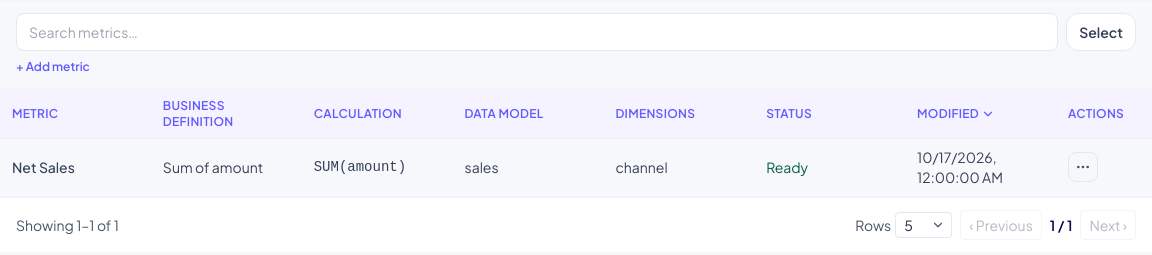
Test: SEM-2A matrix › SEM-2A-031 selection mode
Expected: the text "Net Sales" is shown, [0,138,151,196]
Click the button with aria-label "Select rows" at (1101, 32), box [1066,13,1136,51]
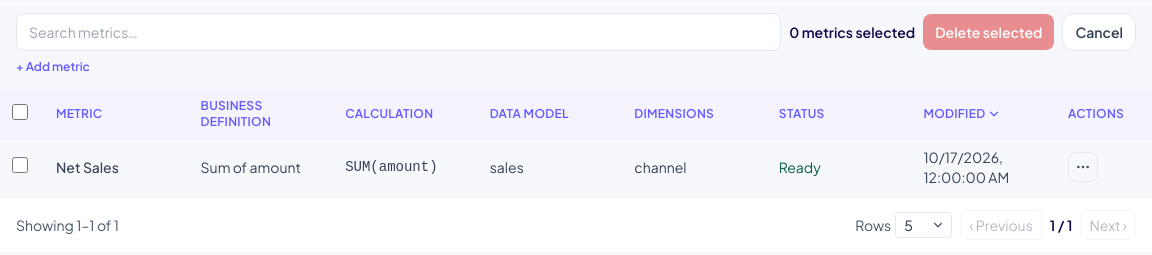
Expected: the checkbox named "Select Net Sales" is shown, [12,157,28,173]
